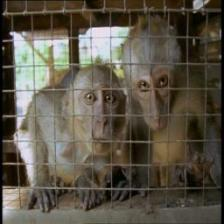monkey: (70, 61, 126, 172), (130, 26, 180, 136)
